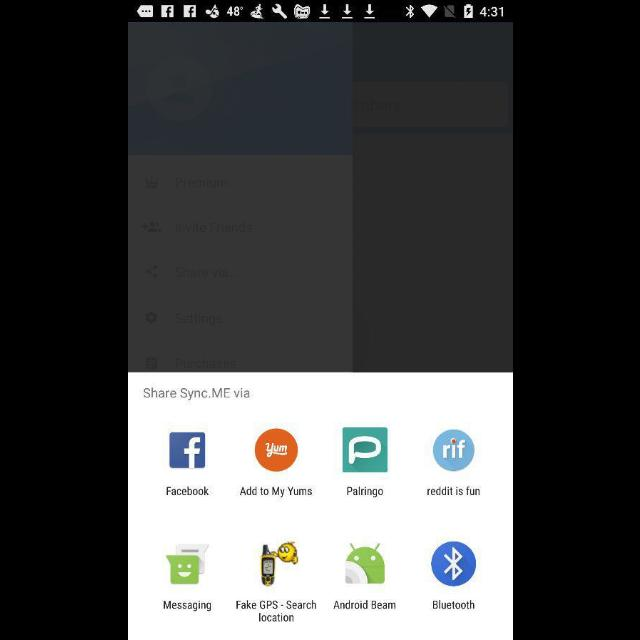icon: (430, 541, 476, 587), (168, 433, 206, 469)
image: (342, 428, 388, 472), (255, 428, 298, 472), (432, 429, 474, 471), (165, 544, 209, 584), (260, 541, 298, 587), (344, 542, 384, 584)
panel: (128, 372, 512, 640)
text: (236, 600, 316, 622), (144, 388, 250, 400), (239, 486, 311, 498), (163, 600, 211, 612), (426, 486, 479, 496), (332, 600, 396, 608), (346, 486, 384, 498), (432, 600, 474, 610), (166, 486, 208, 496)
uppertaskbar: (128, 1, 512, 23)
